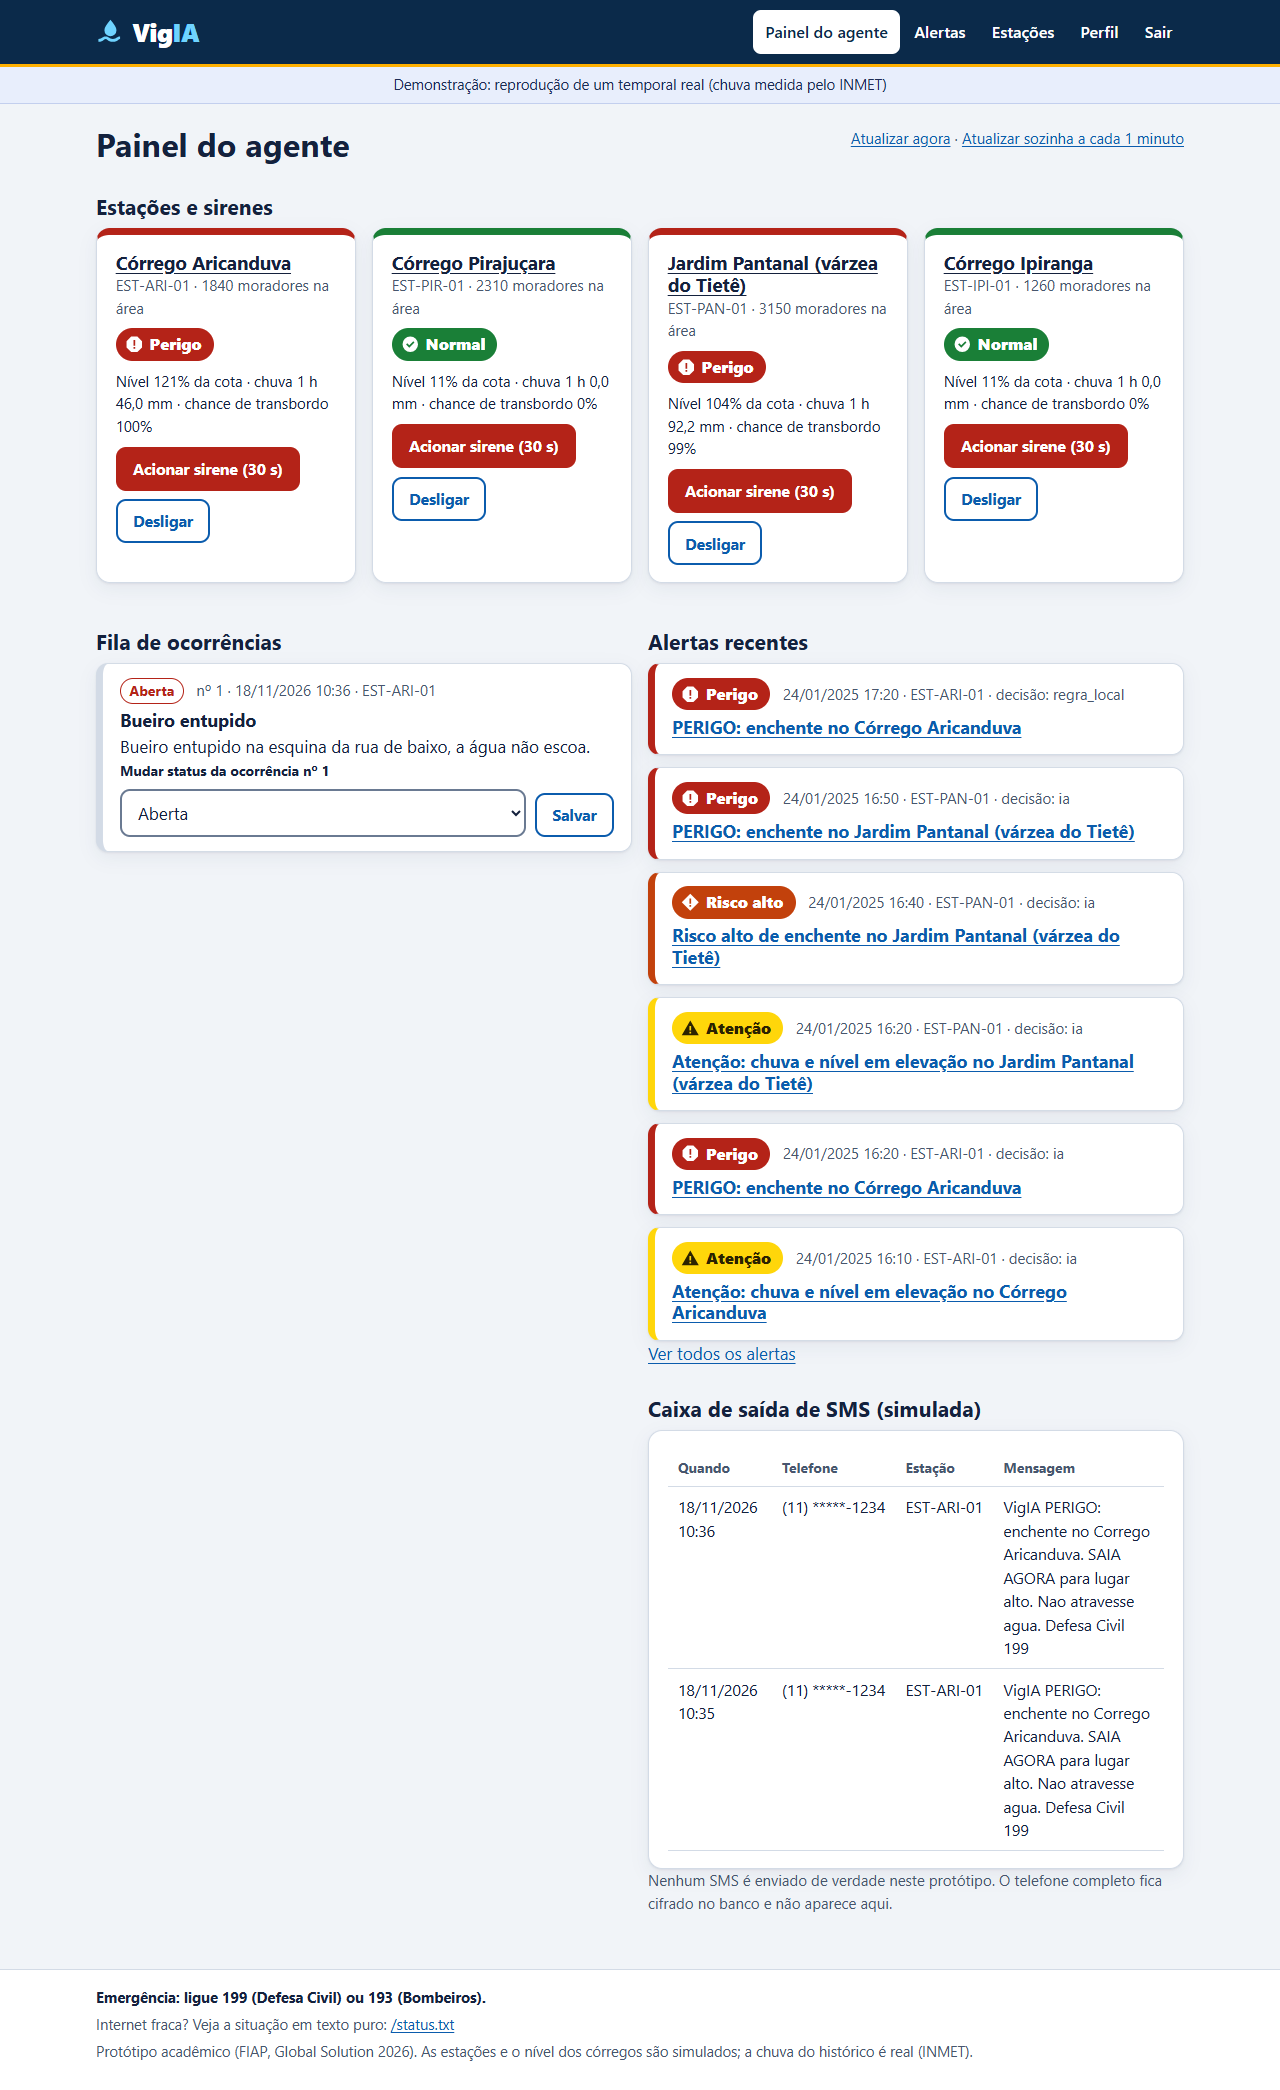

The page's visual inventory and layout, read from the dashboard file:
{"tool":"powerbi","page":{"name":"Página 1","canvas":[1920,1080],"ordinal":0},"visuals":[{"type":"htmlContent443BE3AD55E043BF878BED274D3A6855","fields":{"content":["Medidas.VigIA Painel HTML"]},"box":[0,0,1920,1079.6],"z":0},{"type":"slicer","fields":{"Values":["dim_data.data"]},"box":[42.3,134.2,300.5,52.5],"z":1},{"type":"slicer","fields":{"Values":["dim_estacao.nome"]},"box":[367.7,137.1,356,52.5],"z":2}]}

Visuals, with their boxes on the page's 1920x1080 design canvas (x1, y1, x2, y2). These are canvas units, not pixel positions in the 1280x2090 screenshot, which may show the page scaled, cropped or inside an application window:
htmlContent443BE3AD55E043BF878BED274D3A6855 - Medidas.VigIA Painel HTML: box(0, 0, 1920, 1080)
slicer - dim_data.data: box(42, 134, 343, 187)
slicer - dim_estacao.nome: box(368, 137, 724, 190)
